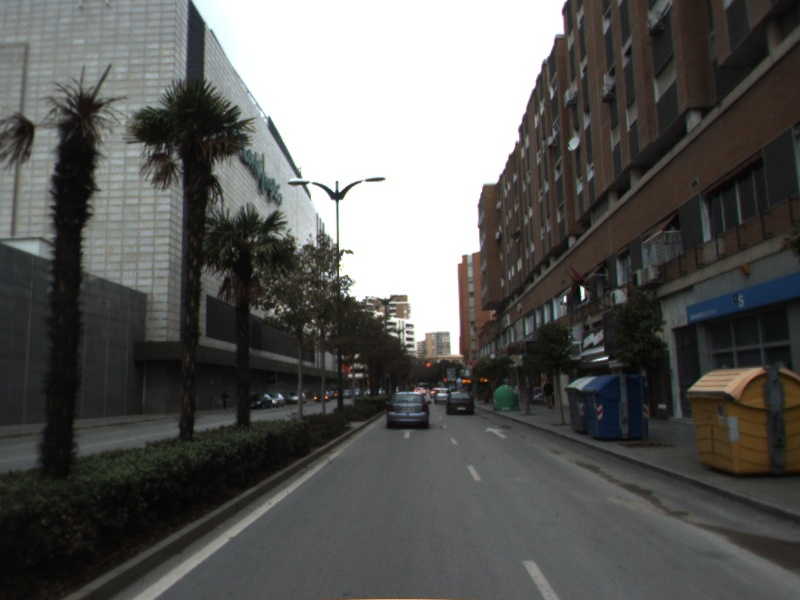STRAIGHT: (482, 425, 511, 440)
